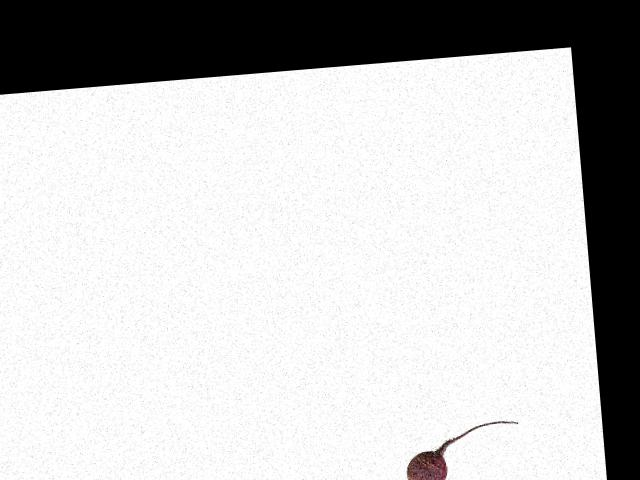beet: (395, 419, 525, 480)
